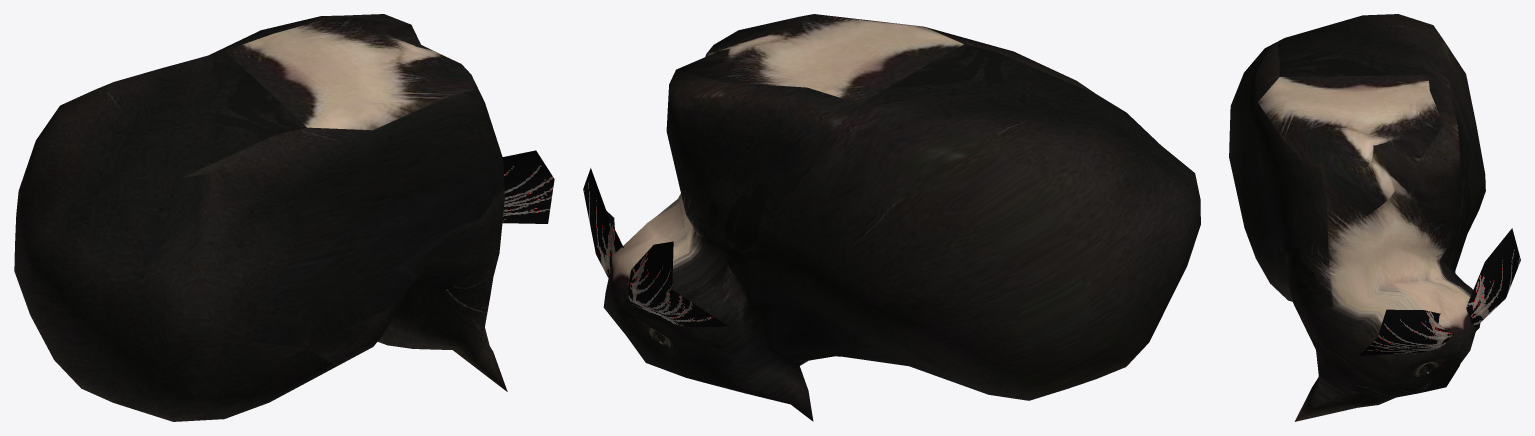
The model's file is Maxwell.dae.
3 views of the same model, side by side, from view 1: azimuth 30°, elevation 25°; view 2: azimuth 150°, elevation 25°; view 3: azimuth 270°, elevation 25° (orthographic). The views are drawn at different scales.
Parts seen in each view (by area): view 1: dingus; view 2: dingus; view 3: dingus.
Boxes of the visible parts, left/top/right/bottom form: dingus: left=14, top=14, right=554, bottom=421; dingus: left=583, top=14, right=1200, bottom=421; dingus: left=1229, top=14, right=1520, bottom=421.
Bounding box in the file's own units: 3.32 × 1.87 × 1.92.
